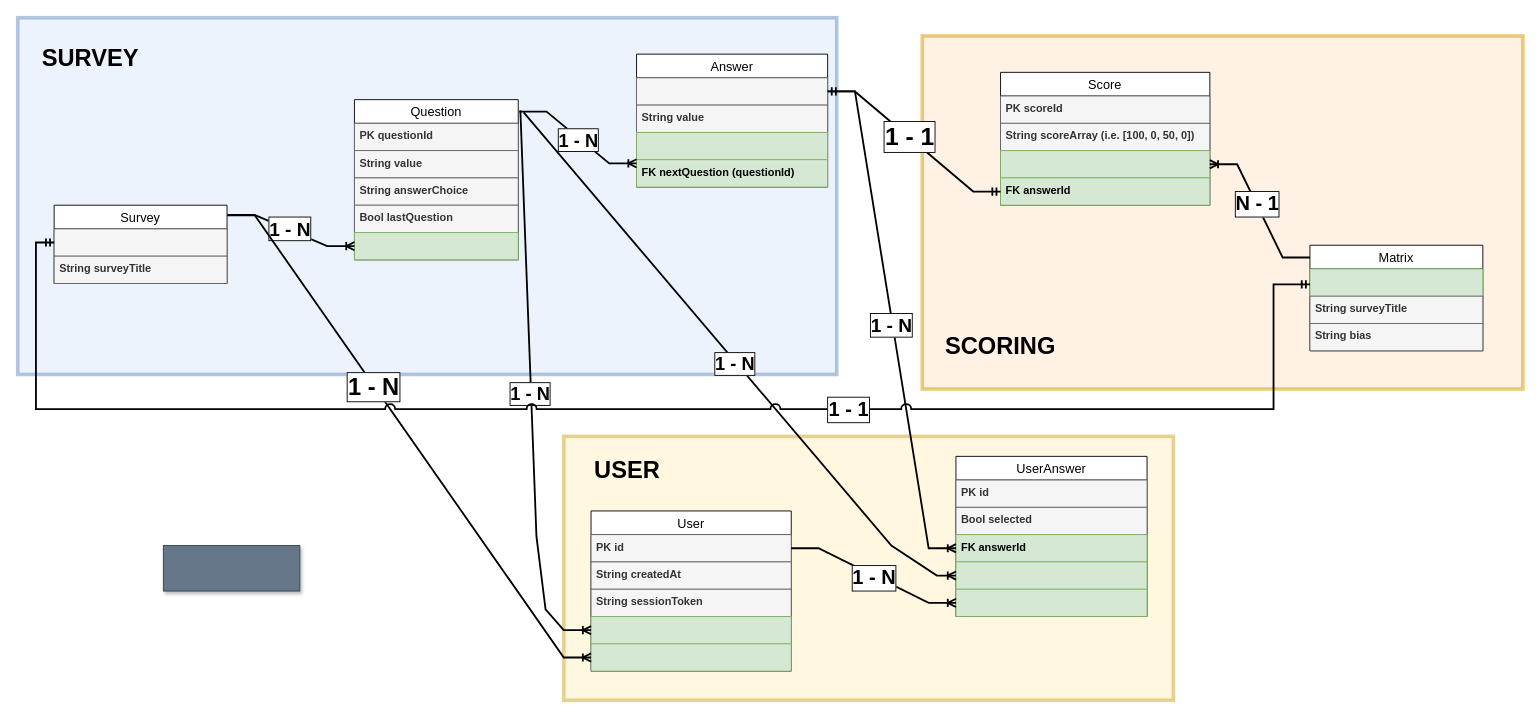
Some shapes in this 1540 by 717 pixel diagram are drawn without their labels. Here are the shapes that lost their labels. From the top down, the centre of each, then its label:
At [732,91]: "PK answerId".
At [732,145]: "FK parentQuestionId (questionId)".
At [1105,164]: "FK matrixId".
At [140,242]: "PK surveyId".
At [436,246]: "FK parentSurveyId (surveyId)".
At [1396,282]: "PK matrixId (surveyId)".
At [232,569]: "lh.mk, 2021".
At [1051,575]: "FK questionId".
At [1051,602]: "FK userId (tempUserId)".
At [690,630]: "FK currentQuestion (questionId)".
At [690,657]: "FK whichSurveyIsTaking (surveyId)".
